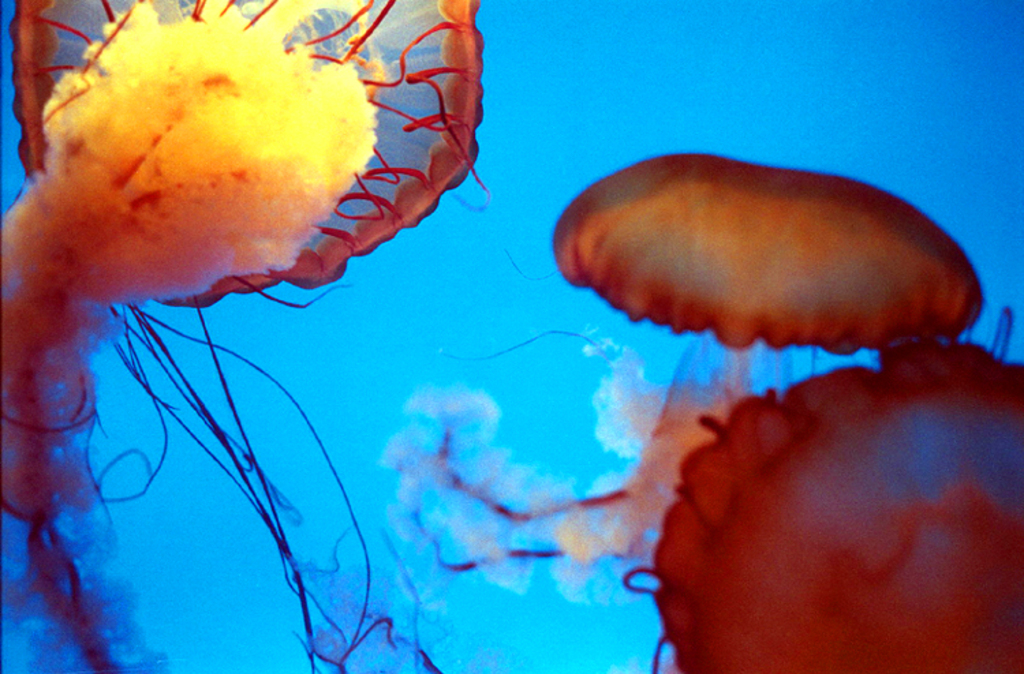Jellyfish: (0, 0, 487, 672), (387, 141, 987, 577), (410, 343, 1022, 672)
